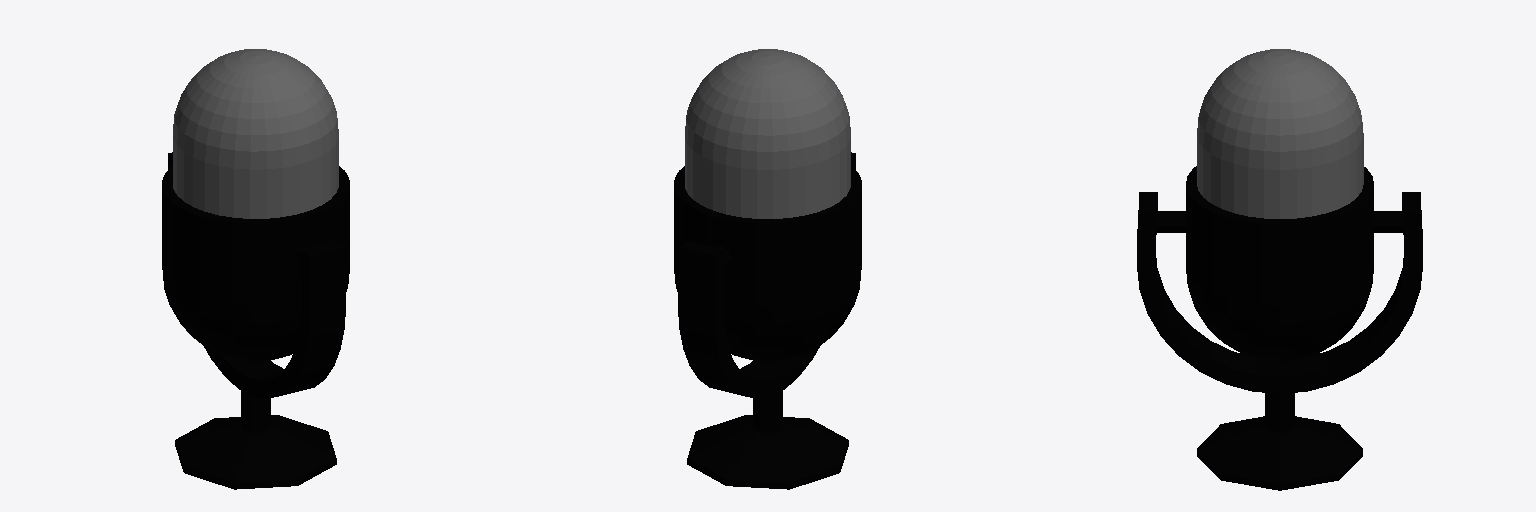
Rendered from microphone.obj.
3 views of the same model, side by side, from view 1: azimuth 30°, elevation 25°; view 2: azimuth 150°, elevation 25°; view 3: azimuth 270°, elevation 25° (orthographic).
Parts seen in each view (by area): view 1: MicrophoneBase_MicrophoneBaseGeom, Microphone_MicrophoneGeom; view 2: MicrophoneBase_MicrophoneBaseGeom, Microphone_MicrophoneGeom; view 3: MicrophoneBase_MicrophoneBaseGeom, Microphone_MicrophoneGeom.
Part boxes in pixels (bbox=[...]): MicrophoneBase_MicrophoneBaseGeom: bbox=[162, 152, 349, 489]; Microphone_MicrophoneGeom: bbox=[173, 49, 338, 218]; MicrophoneBase_MicrophoneBaseGeom: bbox=[674, 152, 861, 489]; Microphone_MicrophoneGeom: bbox=[685, 49, 850, 218]; MicrophoneBase_MicrophoneBaseGeom: bbox=[1137, 166, 1422, 490]; Microphone_MicrophoneGeom: bbox=[1197, 49, 1363, 218].
Size of the model in its own units: 0.0904 by 0.2113 by 0.1375.